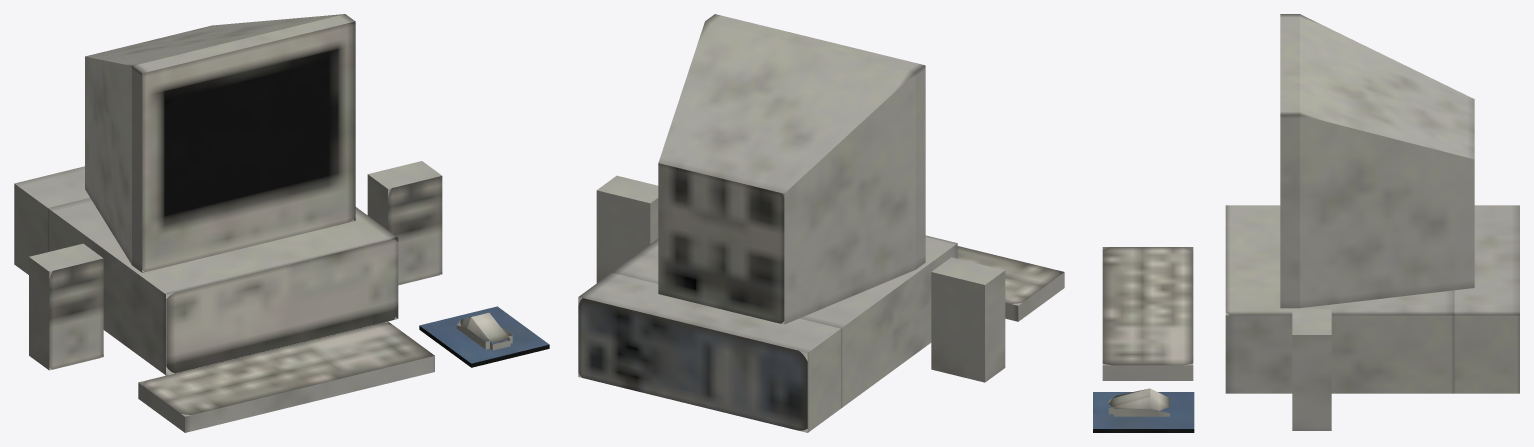
File: SM_EC_Computer_Static_0.fbx
The picture shows the model from 3 angles, left to right: view 1: azimuth 30°, elevation 25°; view 2: azimuth 150°, elevation 25°; view 3: azimuth 270°, elevation 25°; orthographic projection. The views are drawn at different scales.
Parts seen in each view (by area): view 1: SM_EC_Computer_Static_0; view 2: SM_EC_Computer_Static_0; view 3: SM_EC_Computer_Static_0.
Part boxes in pixels (x1,y1,x2,y2): SM_EC_Computer_Static_0: (14, 14, 549, 432); SM_EC_Computer_Static_0: (578, 14, 1064, 432); SM_EC_Computer_Static_0: (1093, 14, 1519, 432).
Bounding box in the file's own units: 1.36 × 1.31 × 0.9195.
